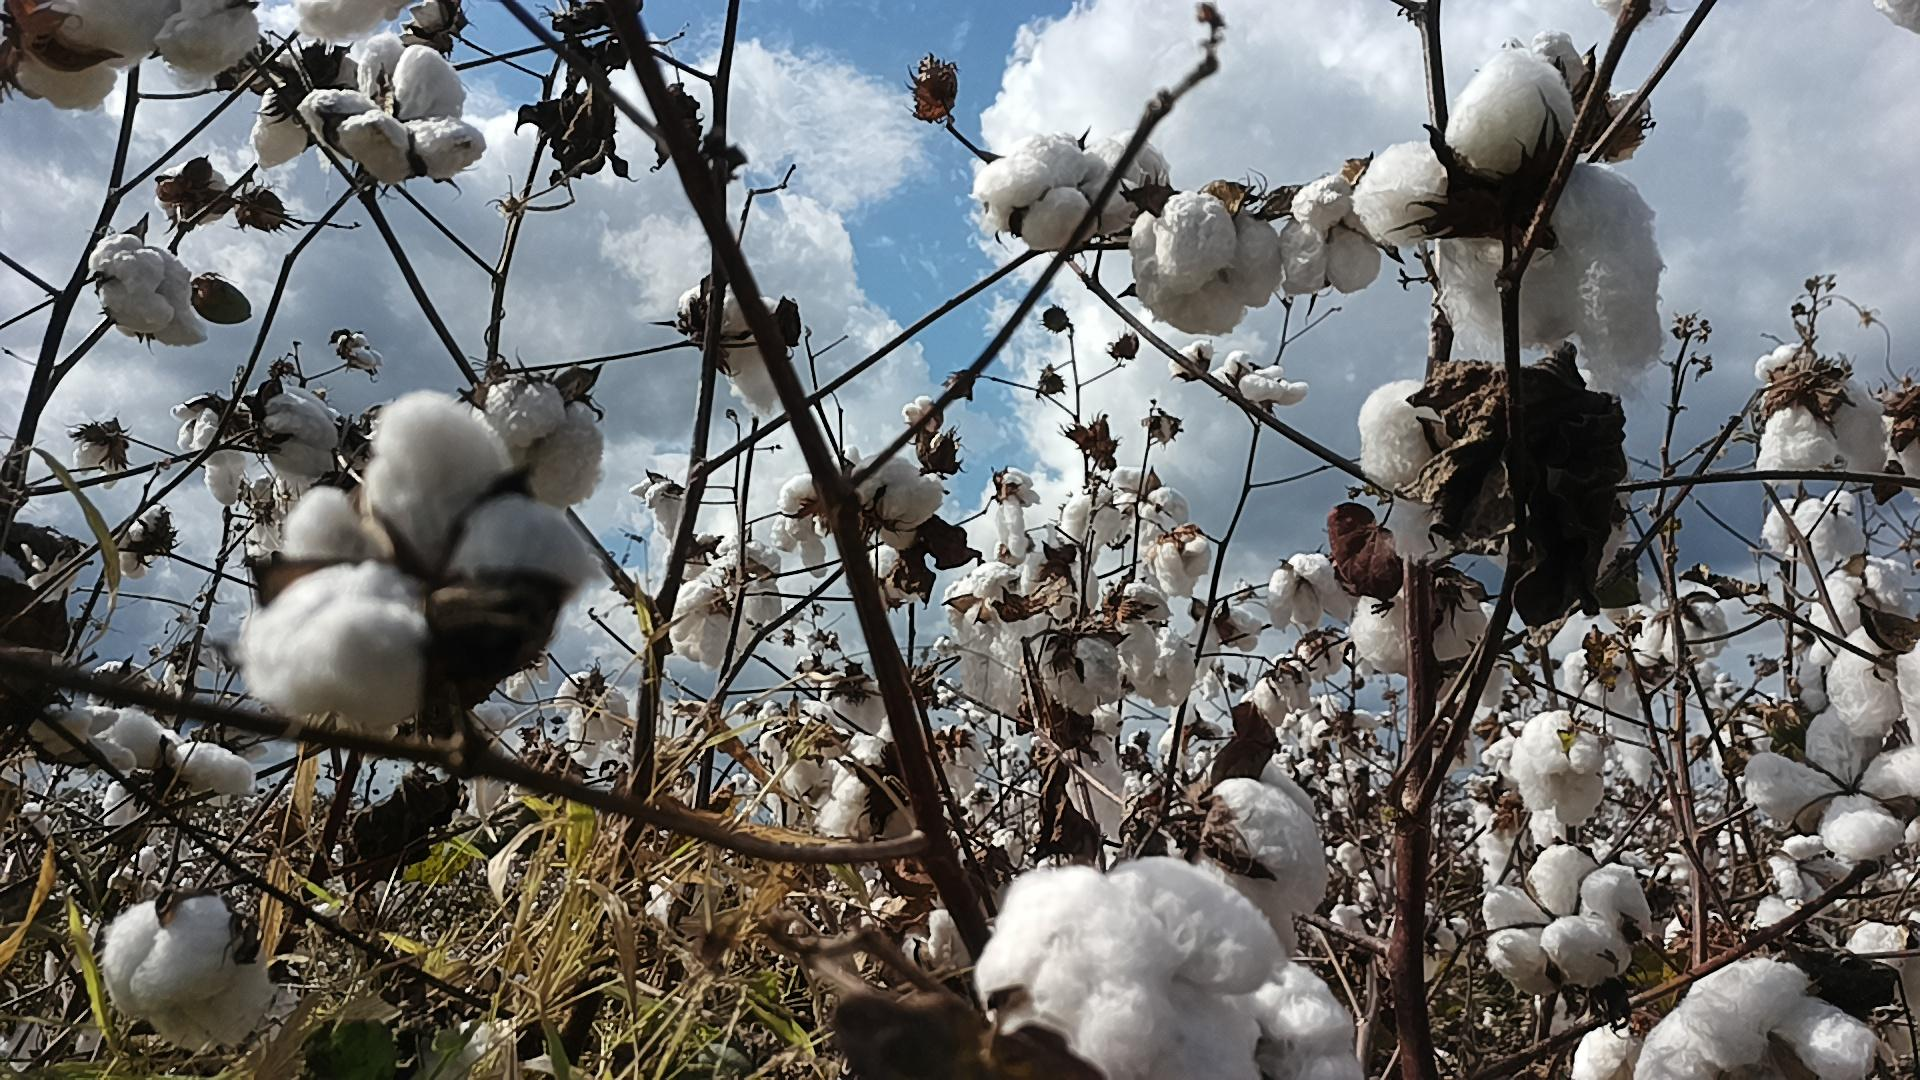cotton_ready: (243, 394, 611, 733), (1353, 51, 1667, 393), (976, 856, 1284, 1080), (1635, 956, 1883, 1080), (298, 33, 488, 183), (104, 886, 272, 1048), (1743, 703, 1920, 856), (1484, 845, 1652, 996), (1203, 761, 1331, 951), (1127, 190, 1288, 336), (1357, 376, 1476, 560), (91, 707, 257, 832), (0, 0, 177, 111), (971, 132, 1134, 251), (1759, 335, 1882, 476), (481, 376, 604, 510), (942, 559, 1044, 713), (1233, 960, 1361, 1080), (1348, 568, 1497, 665), (253, 49, 368, 171), (90, 233, 214, 344), (670, 555, 787, 670), (1563, 646, 1655, 789), (1812, 558, 1920, 667), (1283, 174, 1381, 294), (1513, 709, 1614, 824), (1825, 625, 1920, 742), (847, 446, 948, 551), (153, 0, 261, 92), (171, 393, 248, 508), (1634, 582, 1734, 666), (1080, 128, 1176, 208), (256, 385, 339, 477), (1763, 488, 1869, 560), (1266, 555, 1358, 633), (1040, 632, 1124, 713), (1118, 621, 1197, 707), (154, 161, 231, 223), (293, 0, 411, 40), (1887, 394, 1920, 504)
